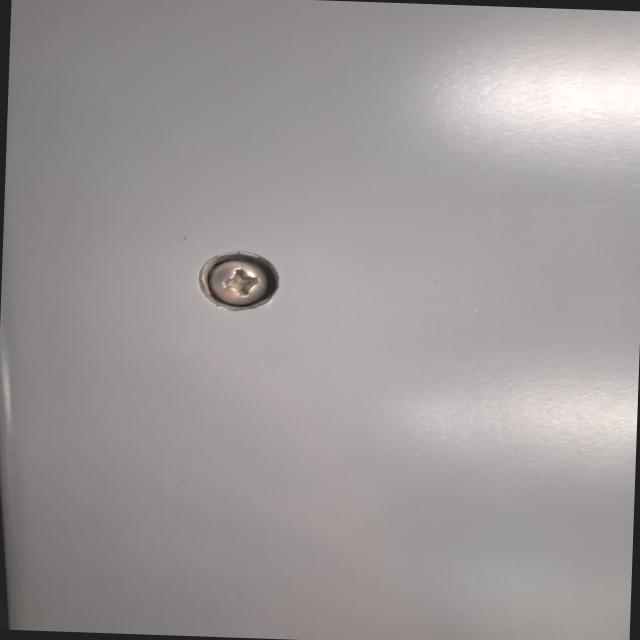Phillips: (202, 247, 278, 314)
